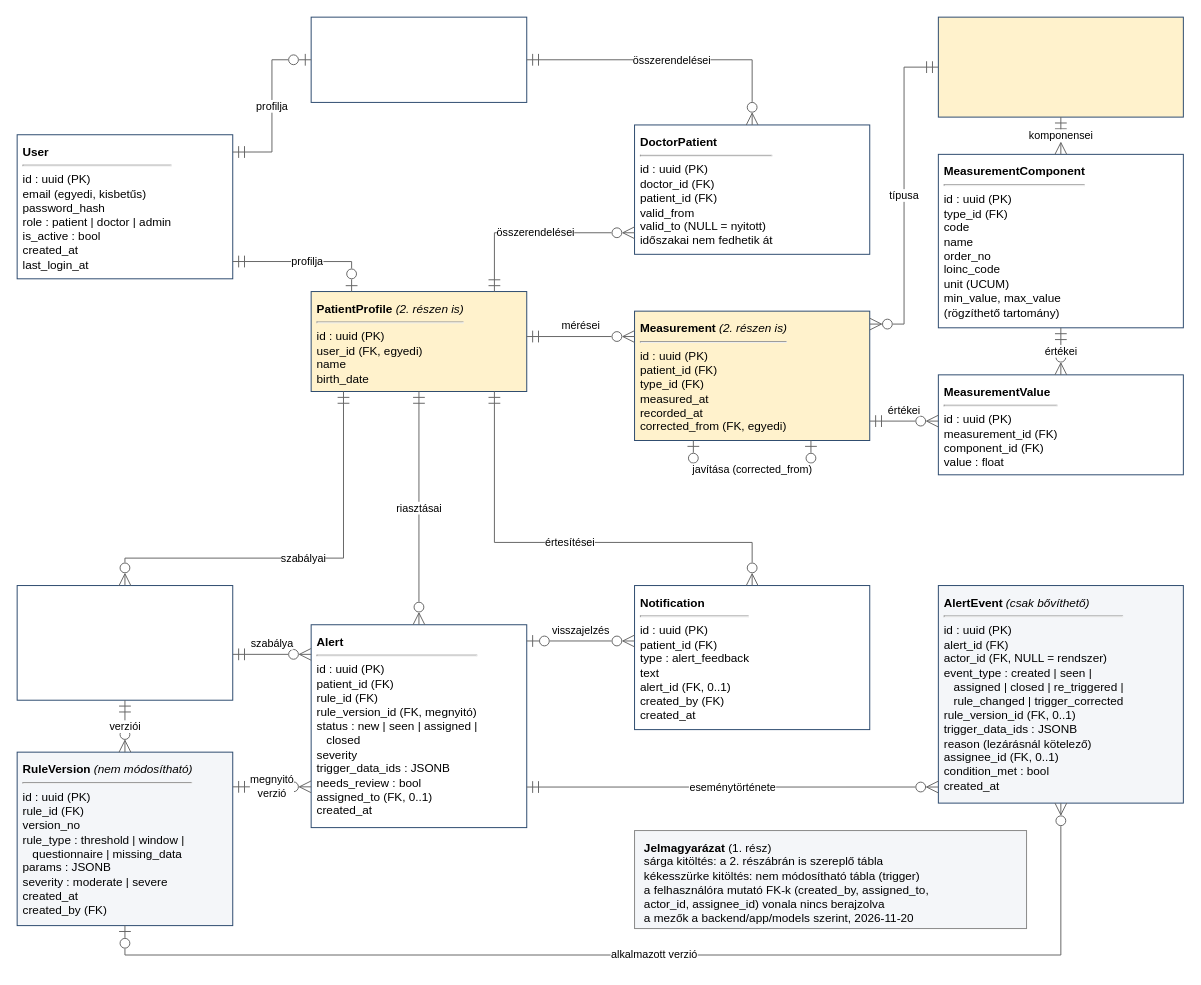
This 1201x985 diagram has some shape labels left out. The centre of each missing label's shape, as x and y in pixels:
"DoctorProfile id : uuid (PK) user_id (FK, egyedi) name" belongs at [418,59].
"MeasurementType (2. részen is) id : uuid (PK) code (egyedi) name loinc_code" belongs at [1060,66].
"Rule id : uuid (PK) patient_id (FK) created_by (FK) is_active : bool created_at" belongs at [124,642].
